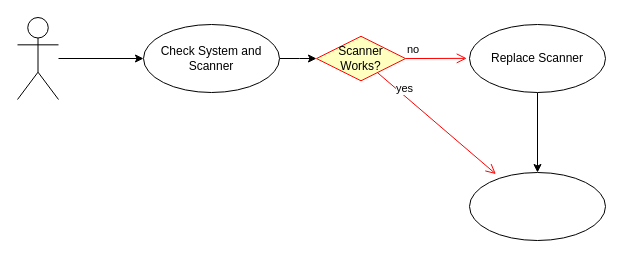
Image size: 623x258. Some labels were removed from this diagram. Each missing label, with the centre of its shape:
"Admin" goes at pixel 37 58.
"Functioning Scanner and System" goes at pixel 537 206.
